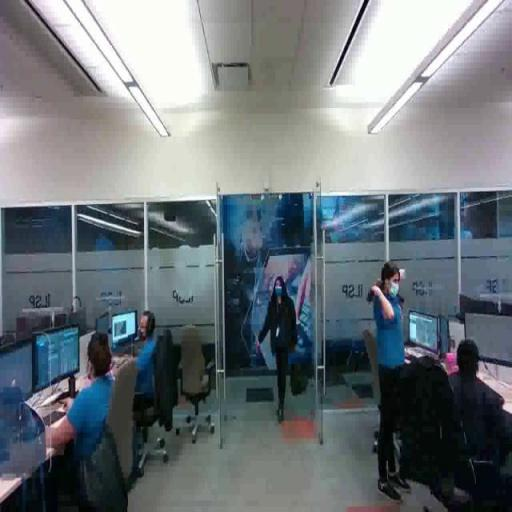person: (38, 331, 126, 505), (372, 264, 416, 511), (445, 335, 512, 481), (258, 273, 311, 429), (117, 309, 168, 415)
